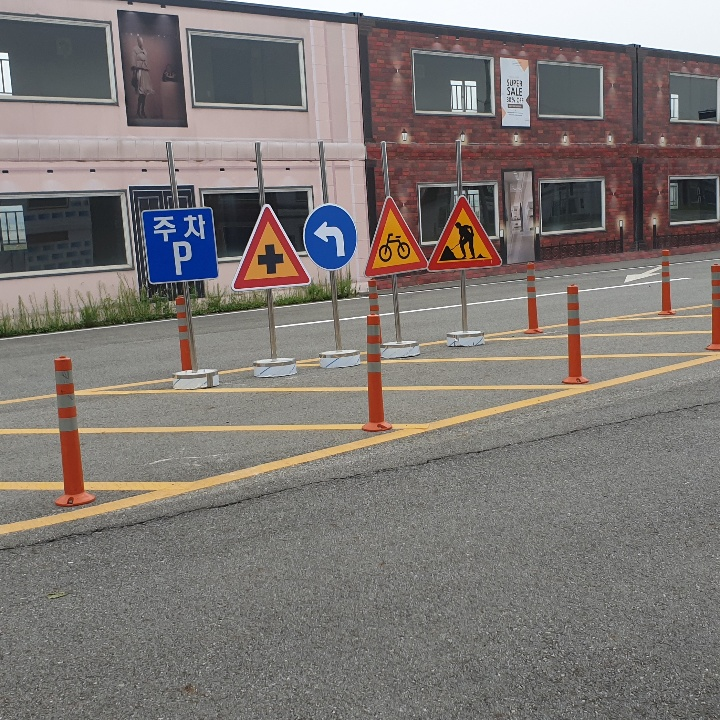bicycle: (367, 196, 427, 274)
const: (436, 218, 493, 263)
inter: (252, 241, 288, 279)
left: (309, 212, 352, 262)
parking: (168, 236, 198, 279)
